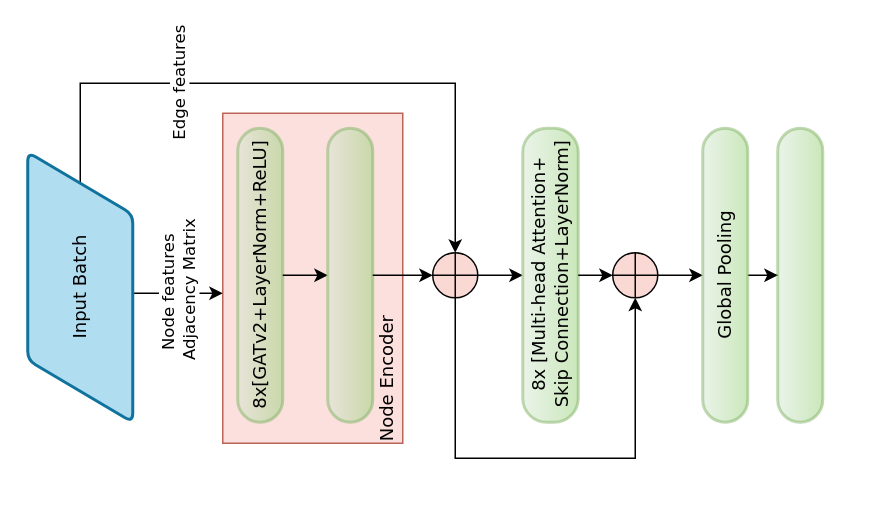
The diagram is 891 pixels wide and 527 high, and some of its shapes have lost their labels. The shapes that lost their labels are listed below. From the top down, each one's centre as x and y in pixels, then its label:
At (350,274): "Jumping Knowledge".
At (800,274): "Fully Connected Classifier".
